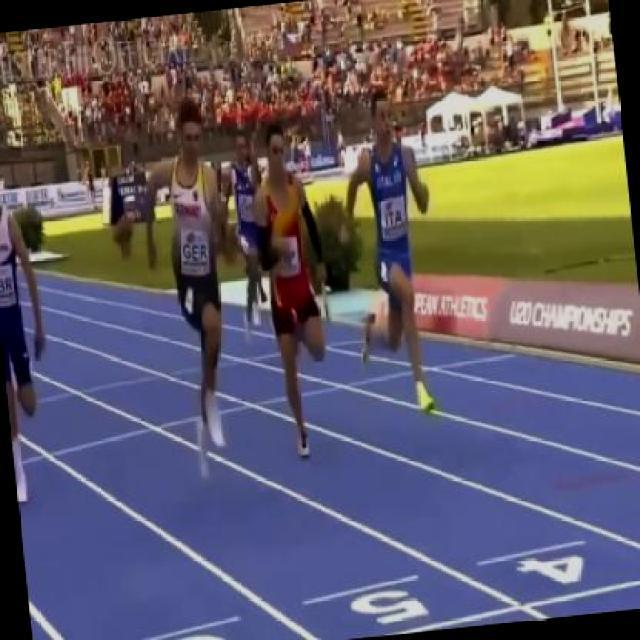non-fight: (130, 96, 255, 475), (334, 88, 452, 421), (242, 119, 344, 462), (0, 149, 65, 511)
